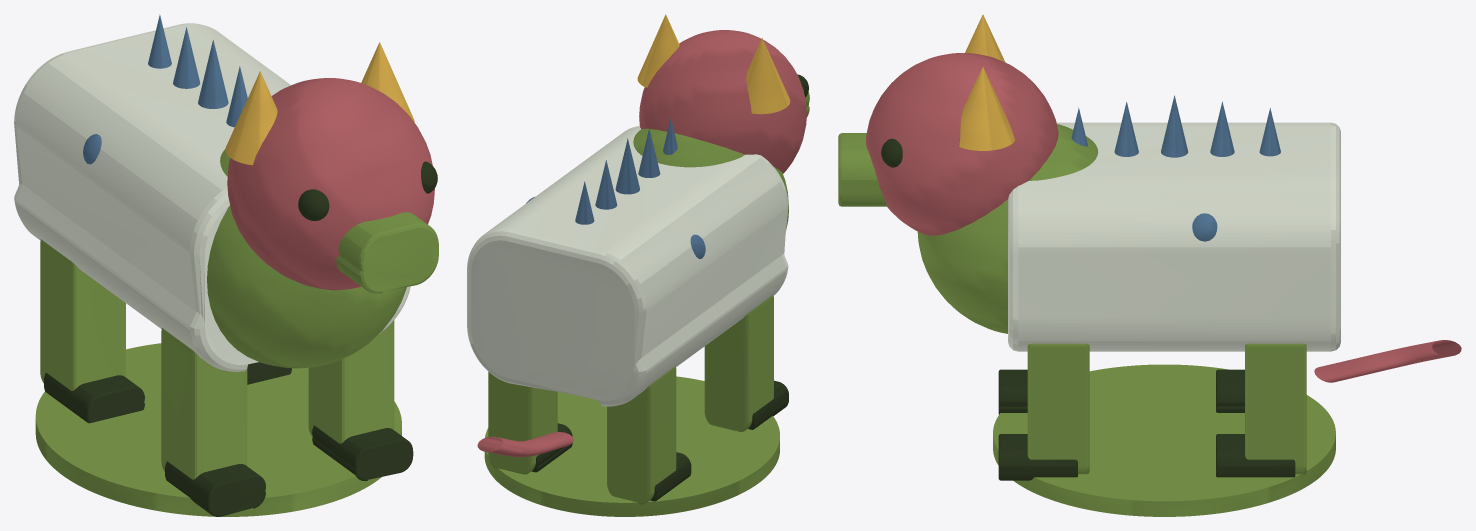
The model's file is 1296_爬行动物图鉴_绿鬣蜥.glb.
The picture shows the model from 3 angles, left to right: view 1: azimuth 30°, elevation 25°; view 2: azimuth 150°, elevation 25°; view 3: azimuth 270°, elevation 25°; orthographic projection. The views are drawn at different scales.
Visible parts, largest first — view 1: card_1296; view 2: card_1296; view 3: card_1296.
Part boxes in pixels (x1,y1,x2,y2): card_1296: (14,14,438,516); card_1296: (467,14,809,516); card_1296: (838,14,1461,516).
Bounding box in the file's own units: 0.7184 × 1 × 1.38.
